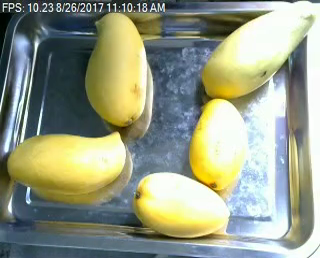Mango: (195, 4, 317, 104), (0, 127, 129, 198), (84, 7, 150, 129), (132, 169, 230, 236), (182, 97, 251, 190)
